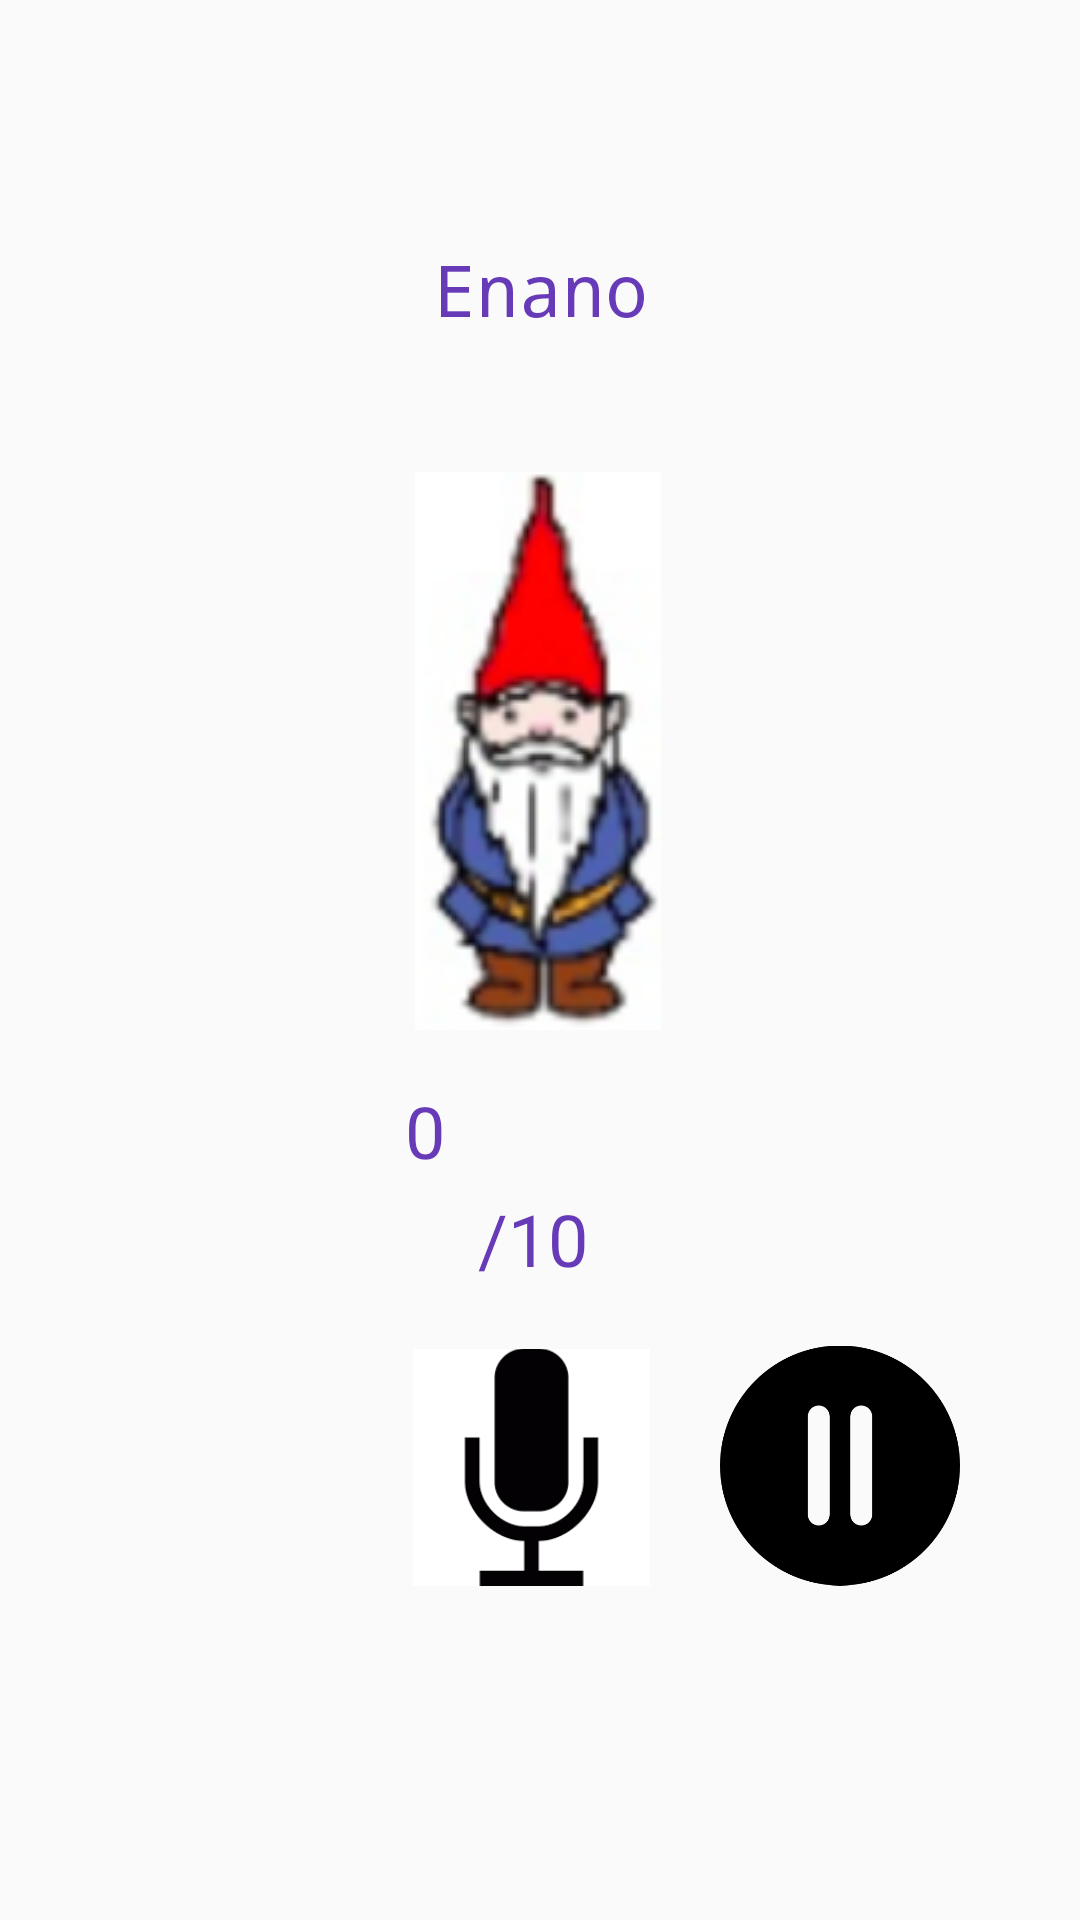

Where to tap for icons on this 1080x1920 app screen, as (x,y):
microfono: (531,1467)
pause: (840,1466)
